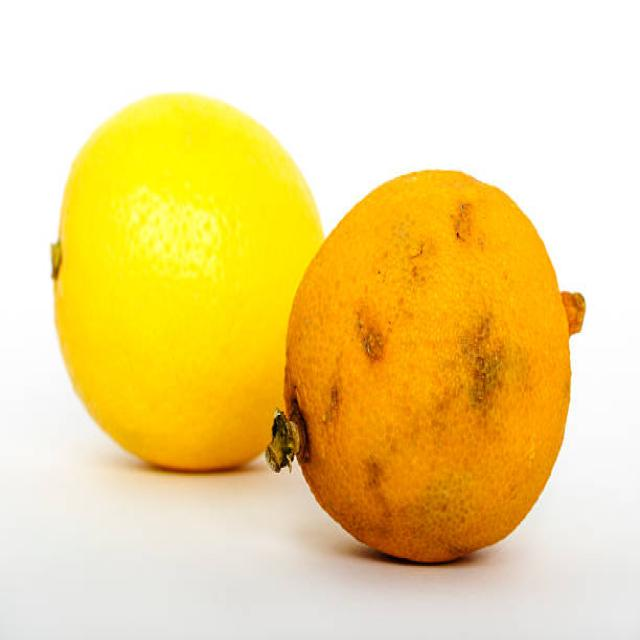Ripe: (46, 80, 326, 476)
overripe: (272, 171, 586, 563)
